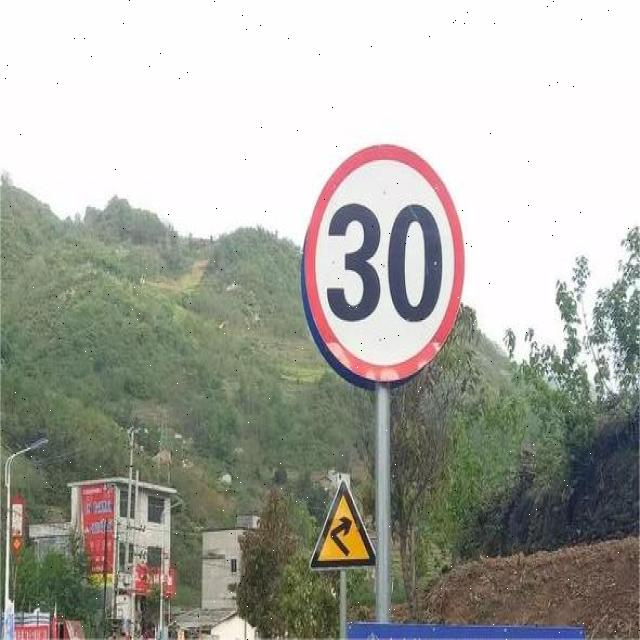speed limit 30: (304, 145, 464, 382)
